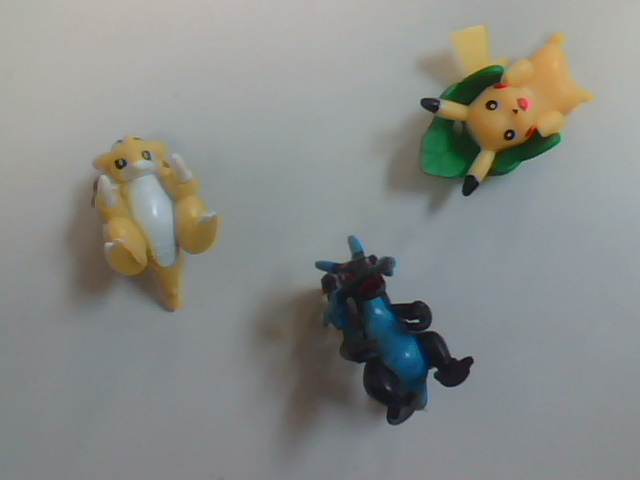charizard: (279, 240, 505, 434)
pikachu: (407, 17, 611, 224)
sandslash: (67, 132, 249, 327)
